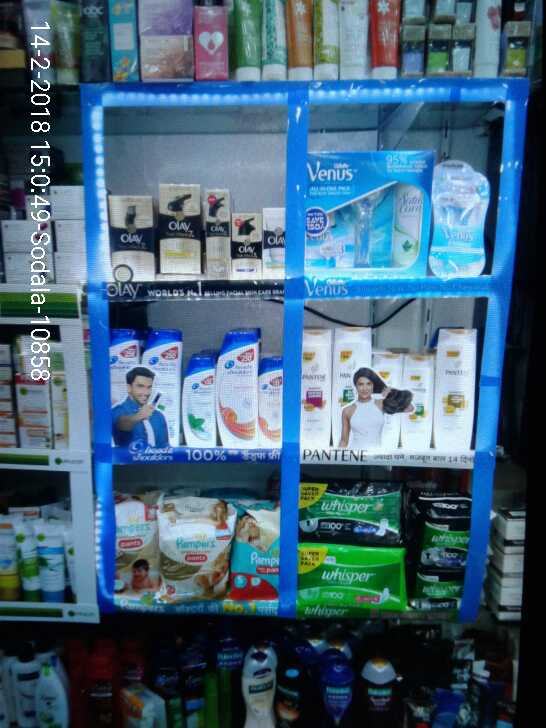venus: (303, 156, 431, 277), (432, 166, 489, 280)
